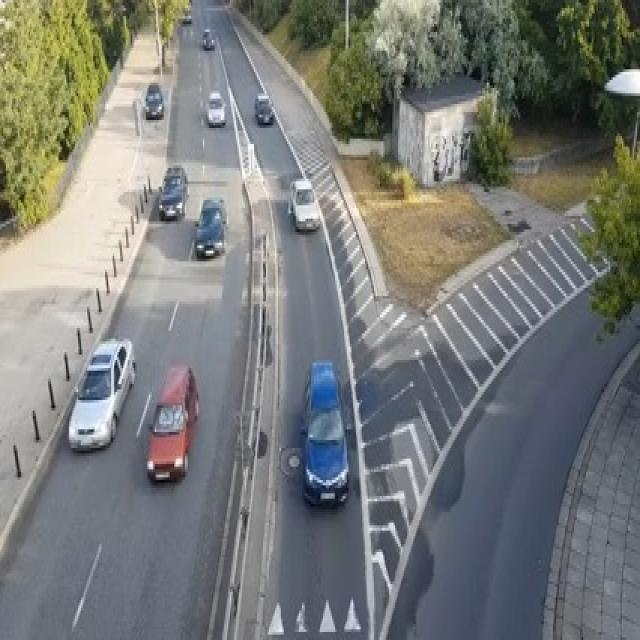car: (68, 336, 135, 451), (299, 360, 349, 507), (146, 362, 198, 482), (194, 194, 227, 258), (287, 179, 320, 232), (158, 162, 188, 218), (144, 83, 164, 117), (206, 91, 225, 125), (254, 90, 273, 122), (201, 27, 215, 48), (182, 8, 191, 24)
